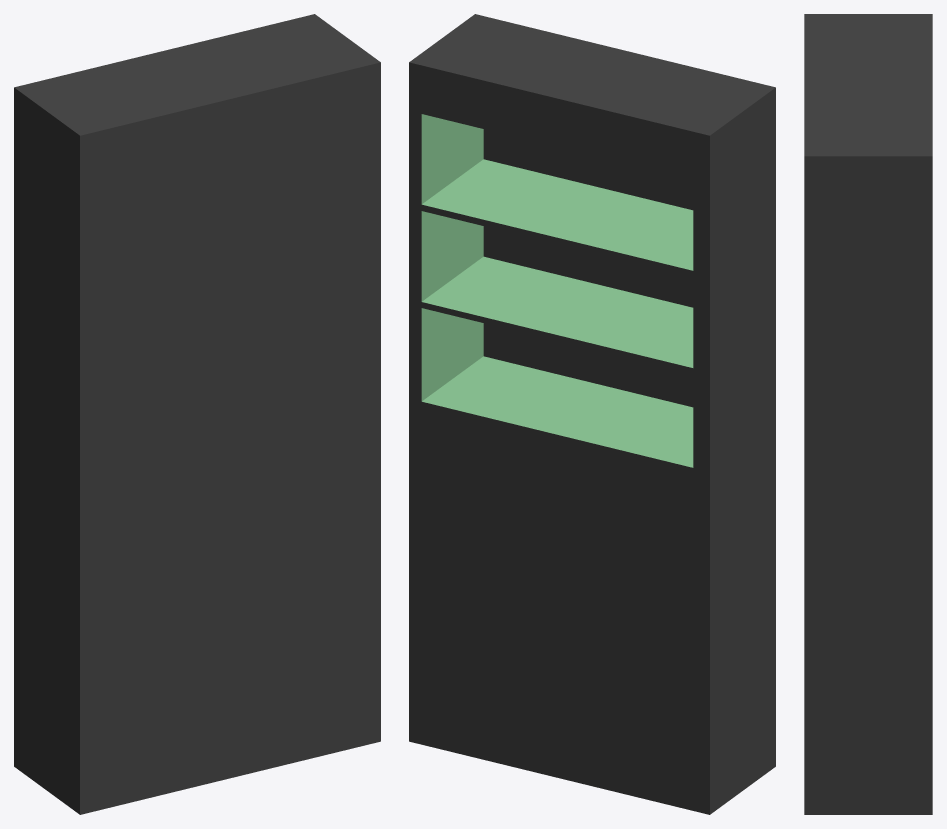
Rendered from Closet.fbx.
3 renders of one model, left to right at view 1: azimuth 30°, elevation 25°; view 2: azimuth 150°, elevation 25°; view 3: azimuth 270°, elevation 25°, orthographic. The views are drawn at different scales.
Visible parts, largest first — view 1: Closet; view 2: Closet; view 3: Closet.
Boxes of the visible parts, x1=… form: Closet: x1=14, y1=14, x2=380, y2=814; Closet: x1=409, y1=14, x2=775, y2=814; Closet: x1=804, y1=14, x2=932, y2=814.
Size of the model in its own units: 105 by 226 by 39.87.
